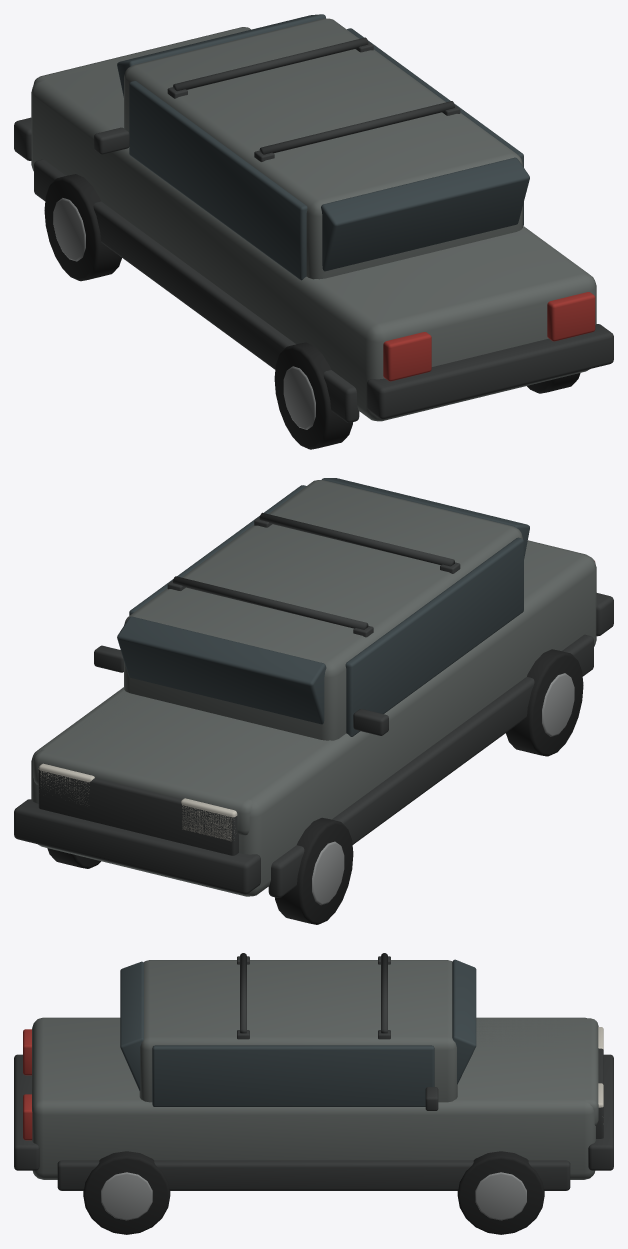
The model's file is car_drivable_v1.glb.
The picture shows the model from 3 angles, top to bottom: view 1: azimuth 30°, elevation 25°; view 2: azimuth 150°, elevation 25°; view 3: azimuth 270°, elevation 25°; orthographic projection. The views are drawn at different scales.
Parts seen in each view (by area): view 1: Car_Shell, Car_Wheel_LR, Car_Wheel_LF; view 2: Car_Shell, Car_Wheel_LF, Car_Wheel_LR; view 3: Car_Shell, Car_Wheel_RF, Car_Wheel_RR.
Part boxes in pixels (x1,y1,x2,y2): Car_Shell: [14, 14, 613, 422]; Car_Wheel_LR: [274, 342, 352, 449]; Car_Wheel_LF: [44, 174, 121, 281]; Car_Shell: [14, 478, 613, 897]; Car_Wheel_LF: [275, 817, 353, 924]; Car_Wheel_LR: [506, 649, 583, 756]; Car_Shell: [14, 953, 613, 1190]; Car_Wheel_RF: [457, 1151, 544, 1234]; Car_Wheel_RR: [83, 1151, 170, 1234].
Size of the model in its own units: 2.12 by 1.67 by 4.68.
